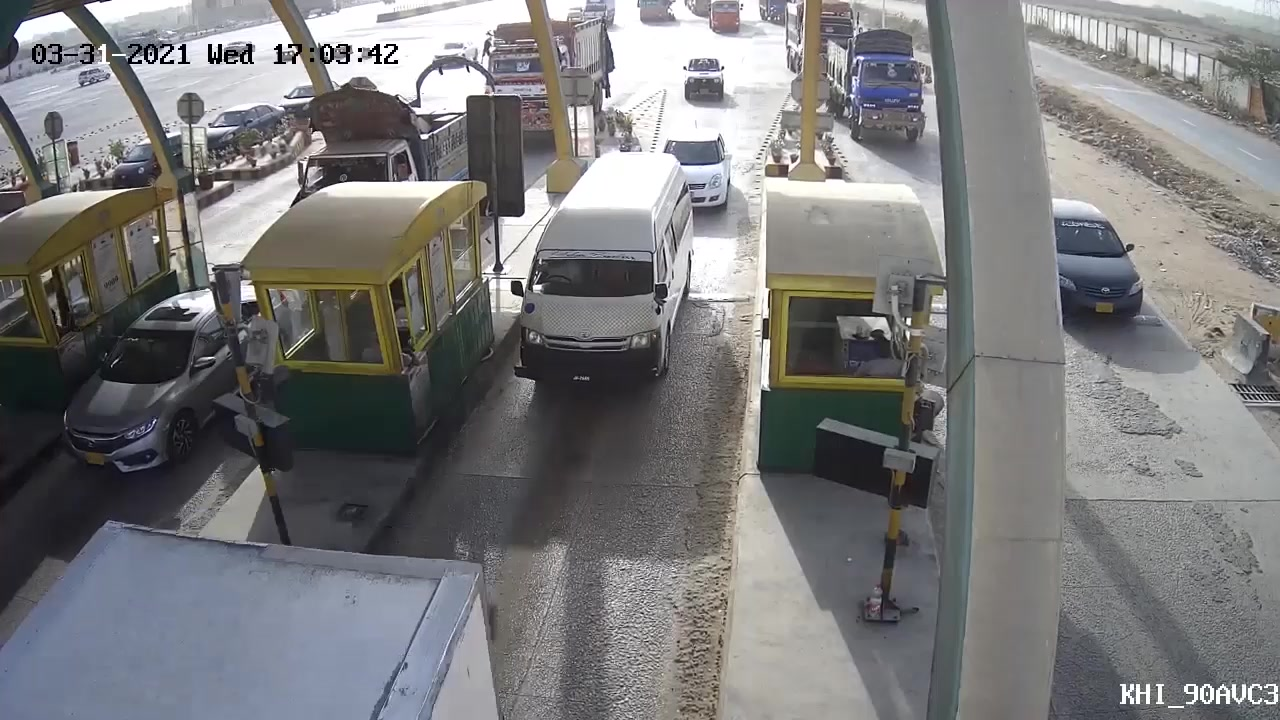F3: (491, 152, 695, 416)
